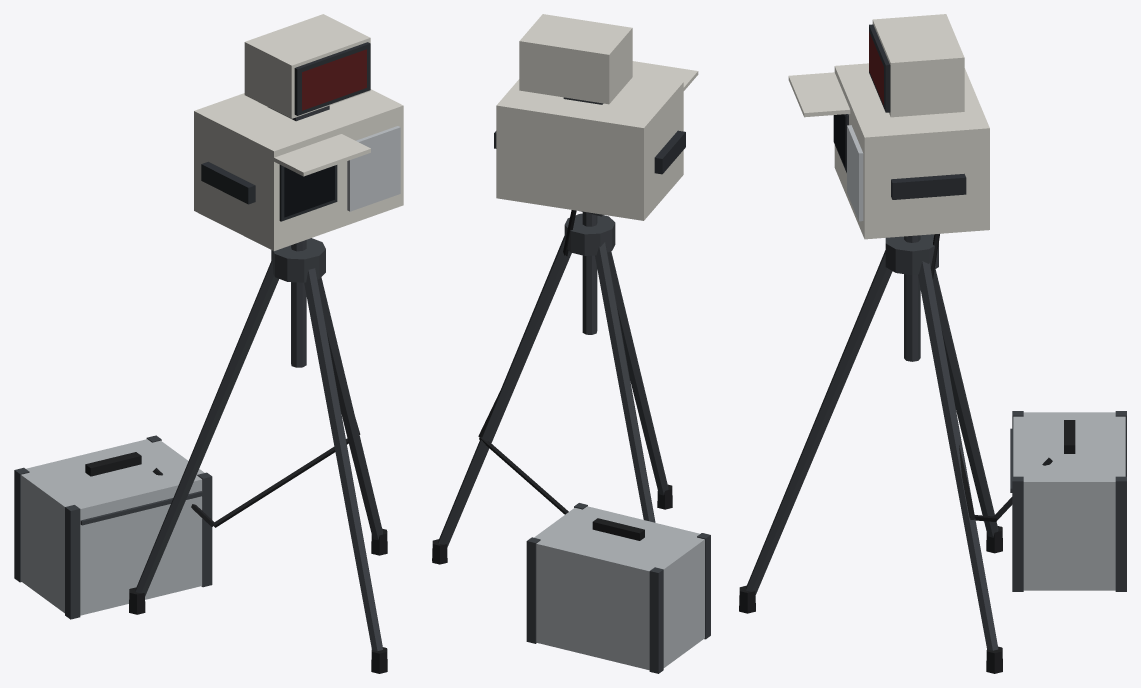
File: portable_orbis.glb
3 renders of one model, left to right at view 1: azimuth 30°, elevation 25°; view 2: azimuth 150°, elevation 25°; view 3: azimuth 270°, elevation 25°, orthographic. The views are drawn at different scales.
Parts seen in each view (by area): view 1: PortableUnit, PortableLens; view 2: PortableUnit; view 3: PortableUnit, PortableLens.
Boxes of the visible parts, left/top/right/bottom form: PortableUnit: left=14, top=14, right=403, bottom=673; PortableLens: left=302, top=49, right=366, bottom=110; PortableUnit: left=432, top=14, right=710, bottom=673; PortableUnit: left=739, top=14, right=1126, bottom=673; PortableLens: left=869, top=31, right=883, bottom=105.
Size of the model in its own units: 0.9701 by 1.7 by 1.04.
